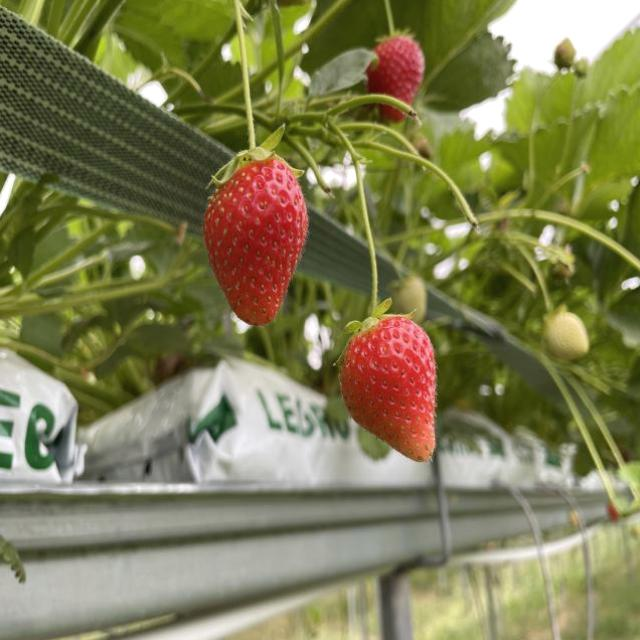stem: (212, 0, 283, 186), (346, 159, 393, 333)
strawberryR: (204, 156, 308, 326), (340, 315, 435, 462)
